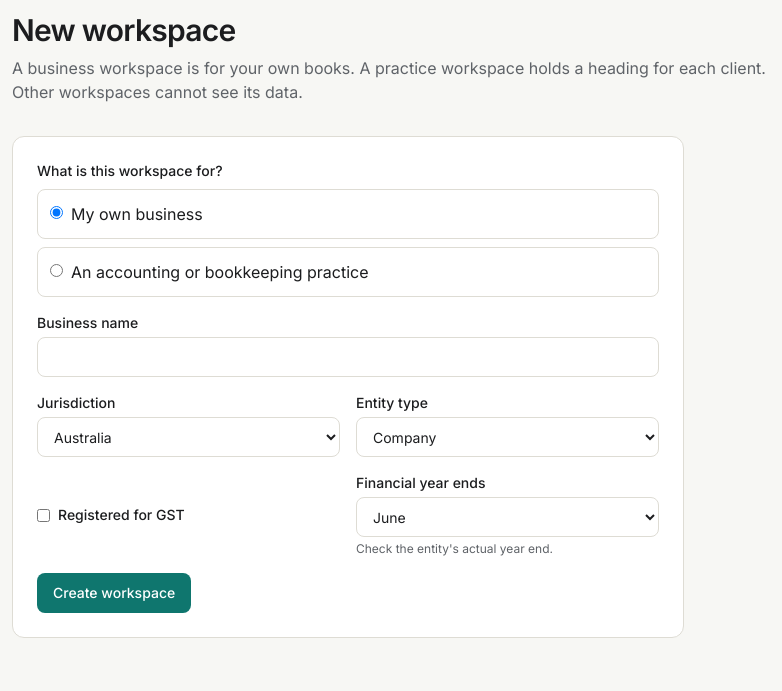
Scenario: WorkspaceSetup › shows the server error
This screenshot has width=782, height=691.
In the field labelled "Business name": (348, 357) [37,337,659,377], type "Ann's Cafe"
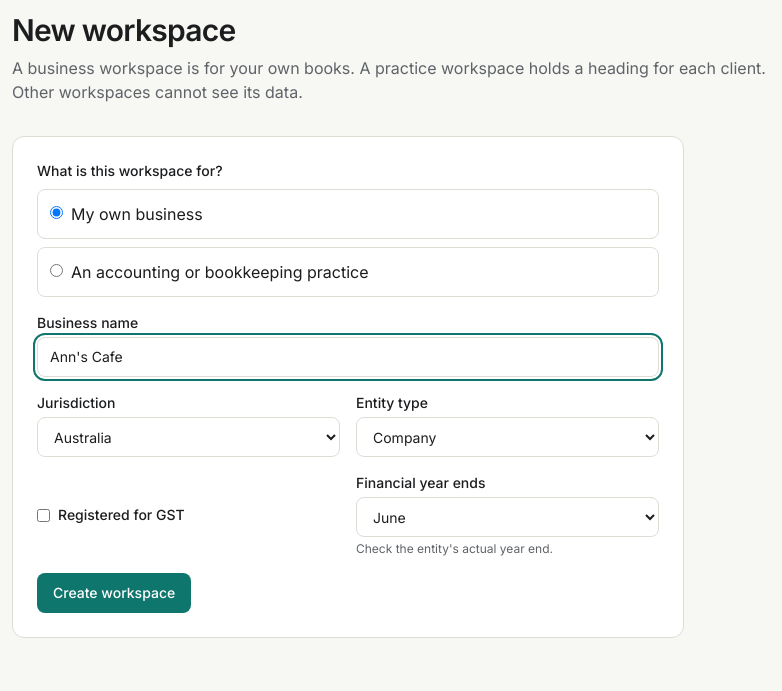
Click the button "Create workspace": (114, 593) [37,573,191,613]
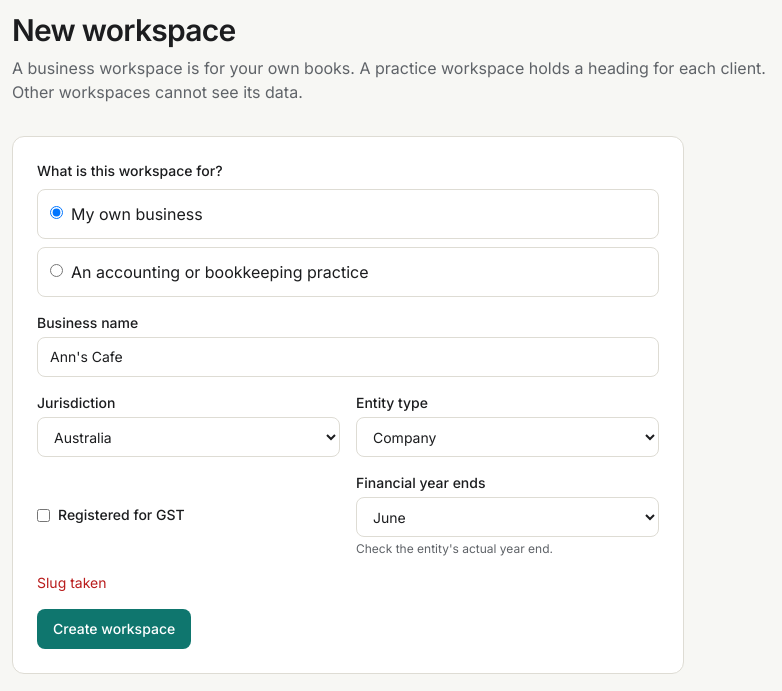
Check: the message reads "Slug taken", box [37,574,106,591]
